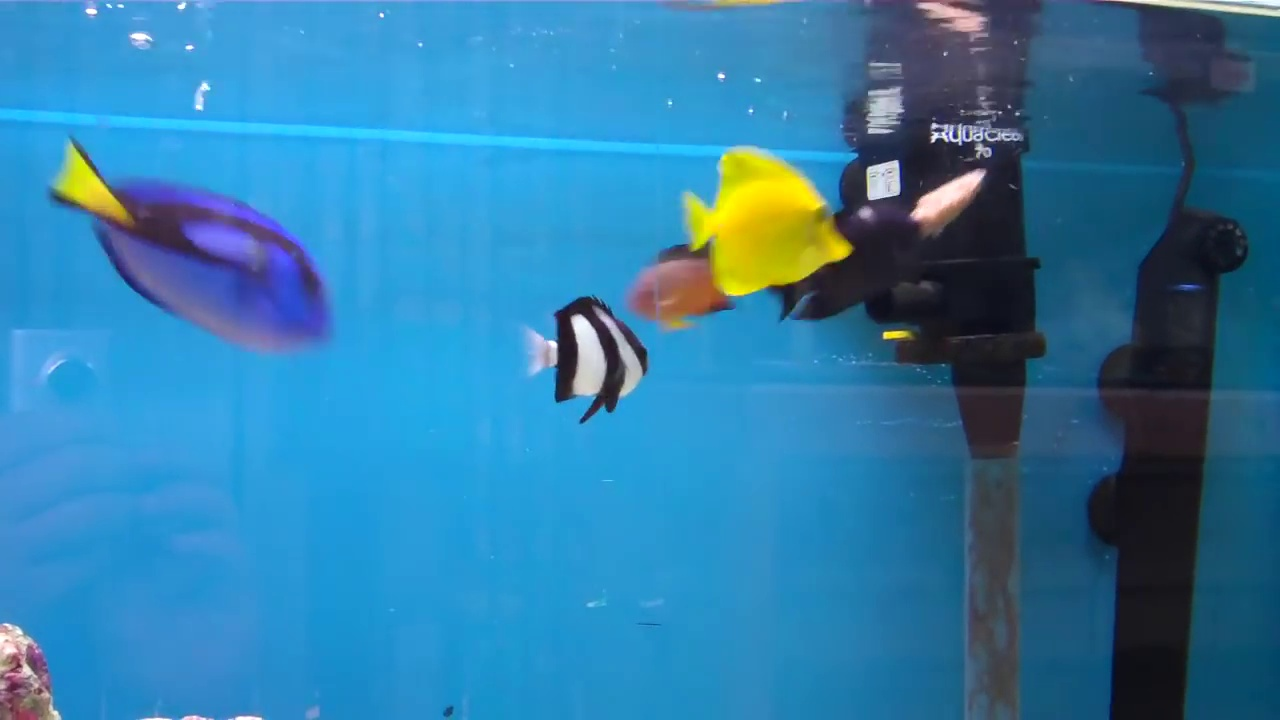blue tang surgeonfish: (50, 126, 342, 365)
saddle butterfly fish: (657, 138, 867, 310)
